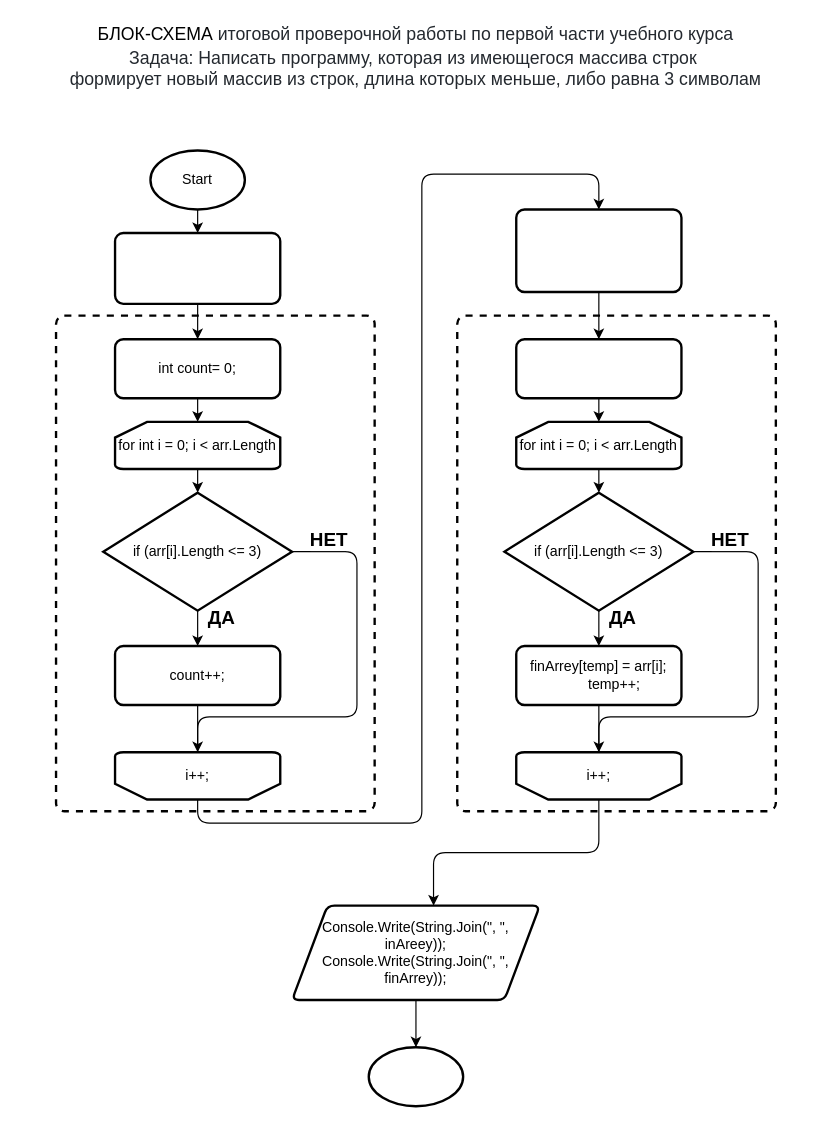
Some shapes in this 831 by 1127 pixel diagram are drawn without their labels. The centre of each missing label's shape, as x and y in pixels:
Finish: point 415,1076
int temp = 0;: point 598,368
string[] finArrey= new string[cont];: point 598,250
string[] inArrey = {...}: point 197,267
